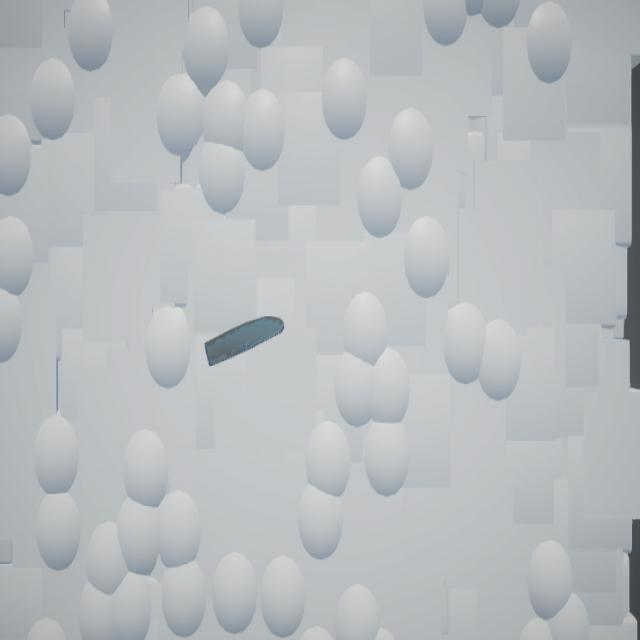top_knife: (206, 317, 286, 367)
